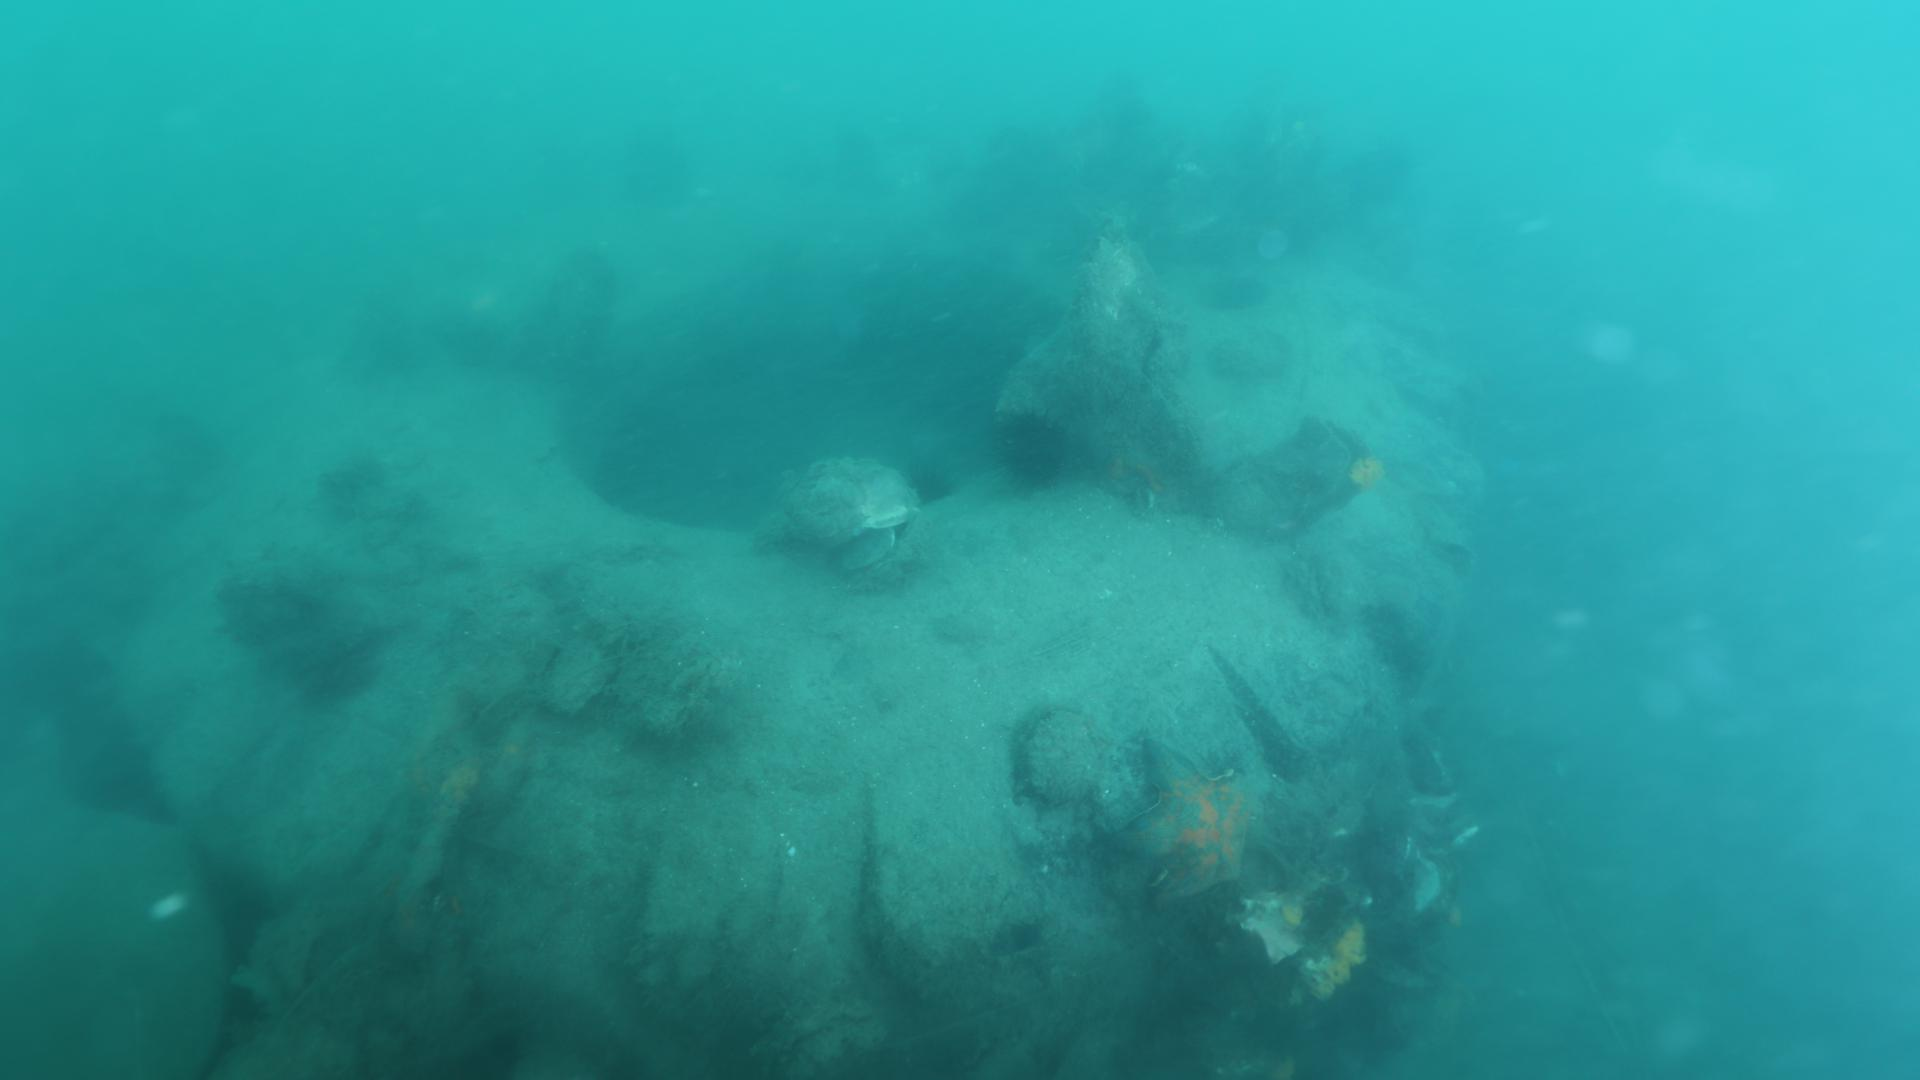tire: (113, 156, 1484, 1080)
